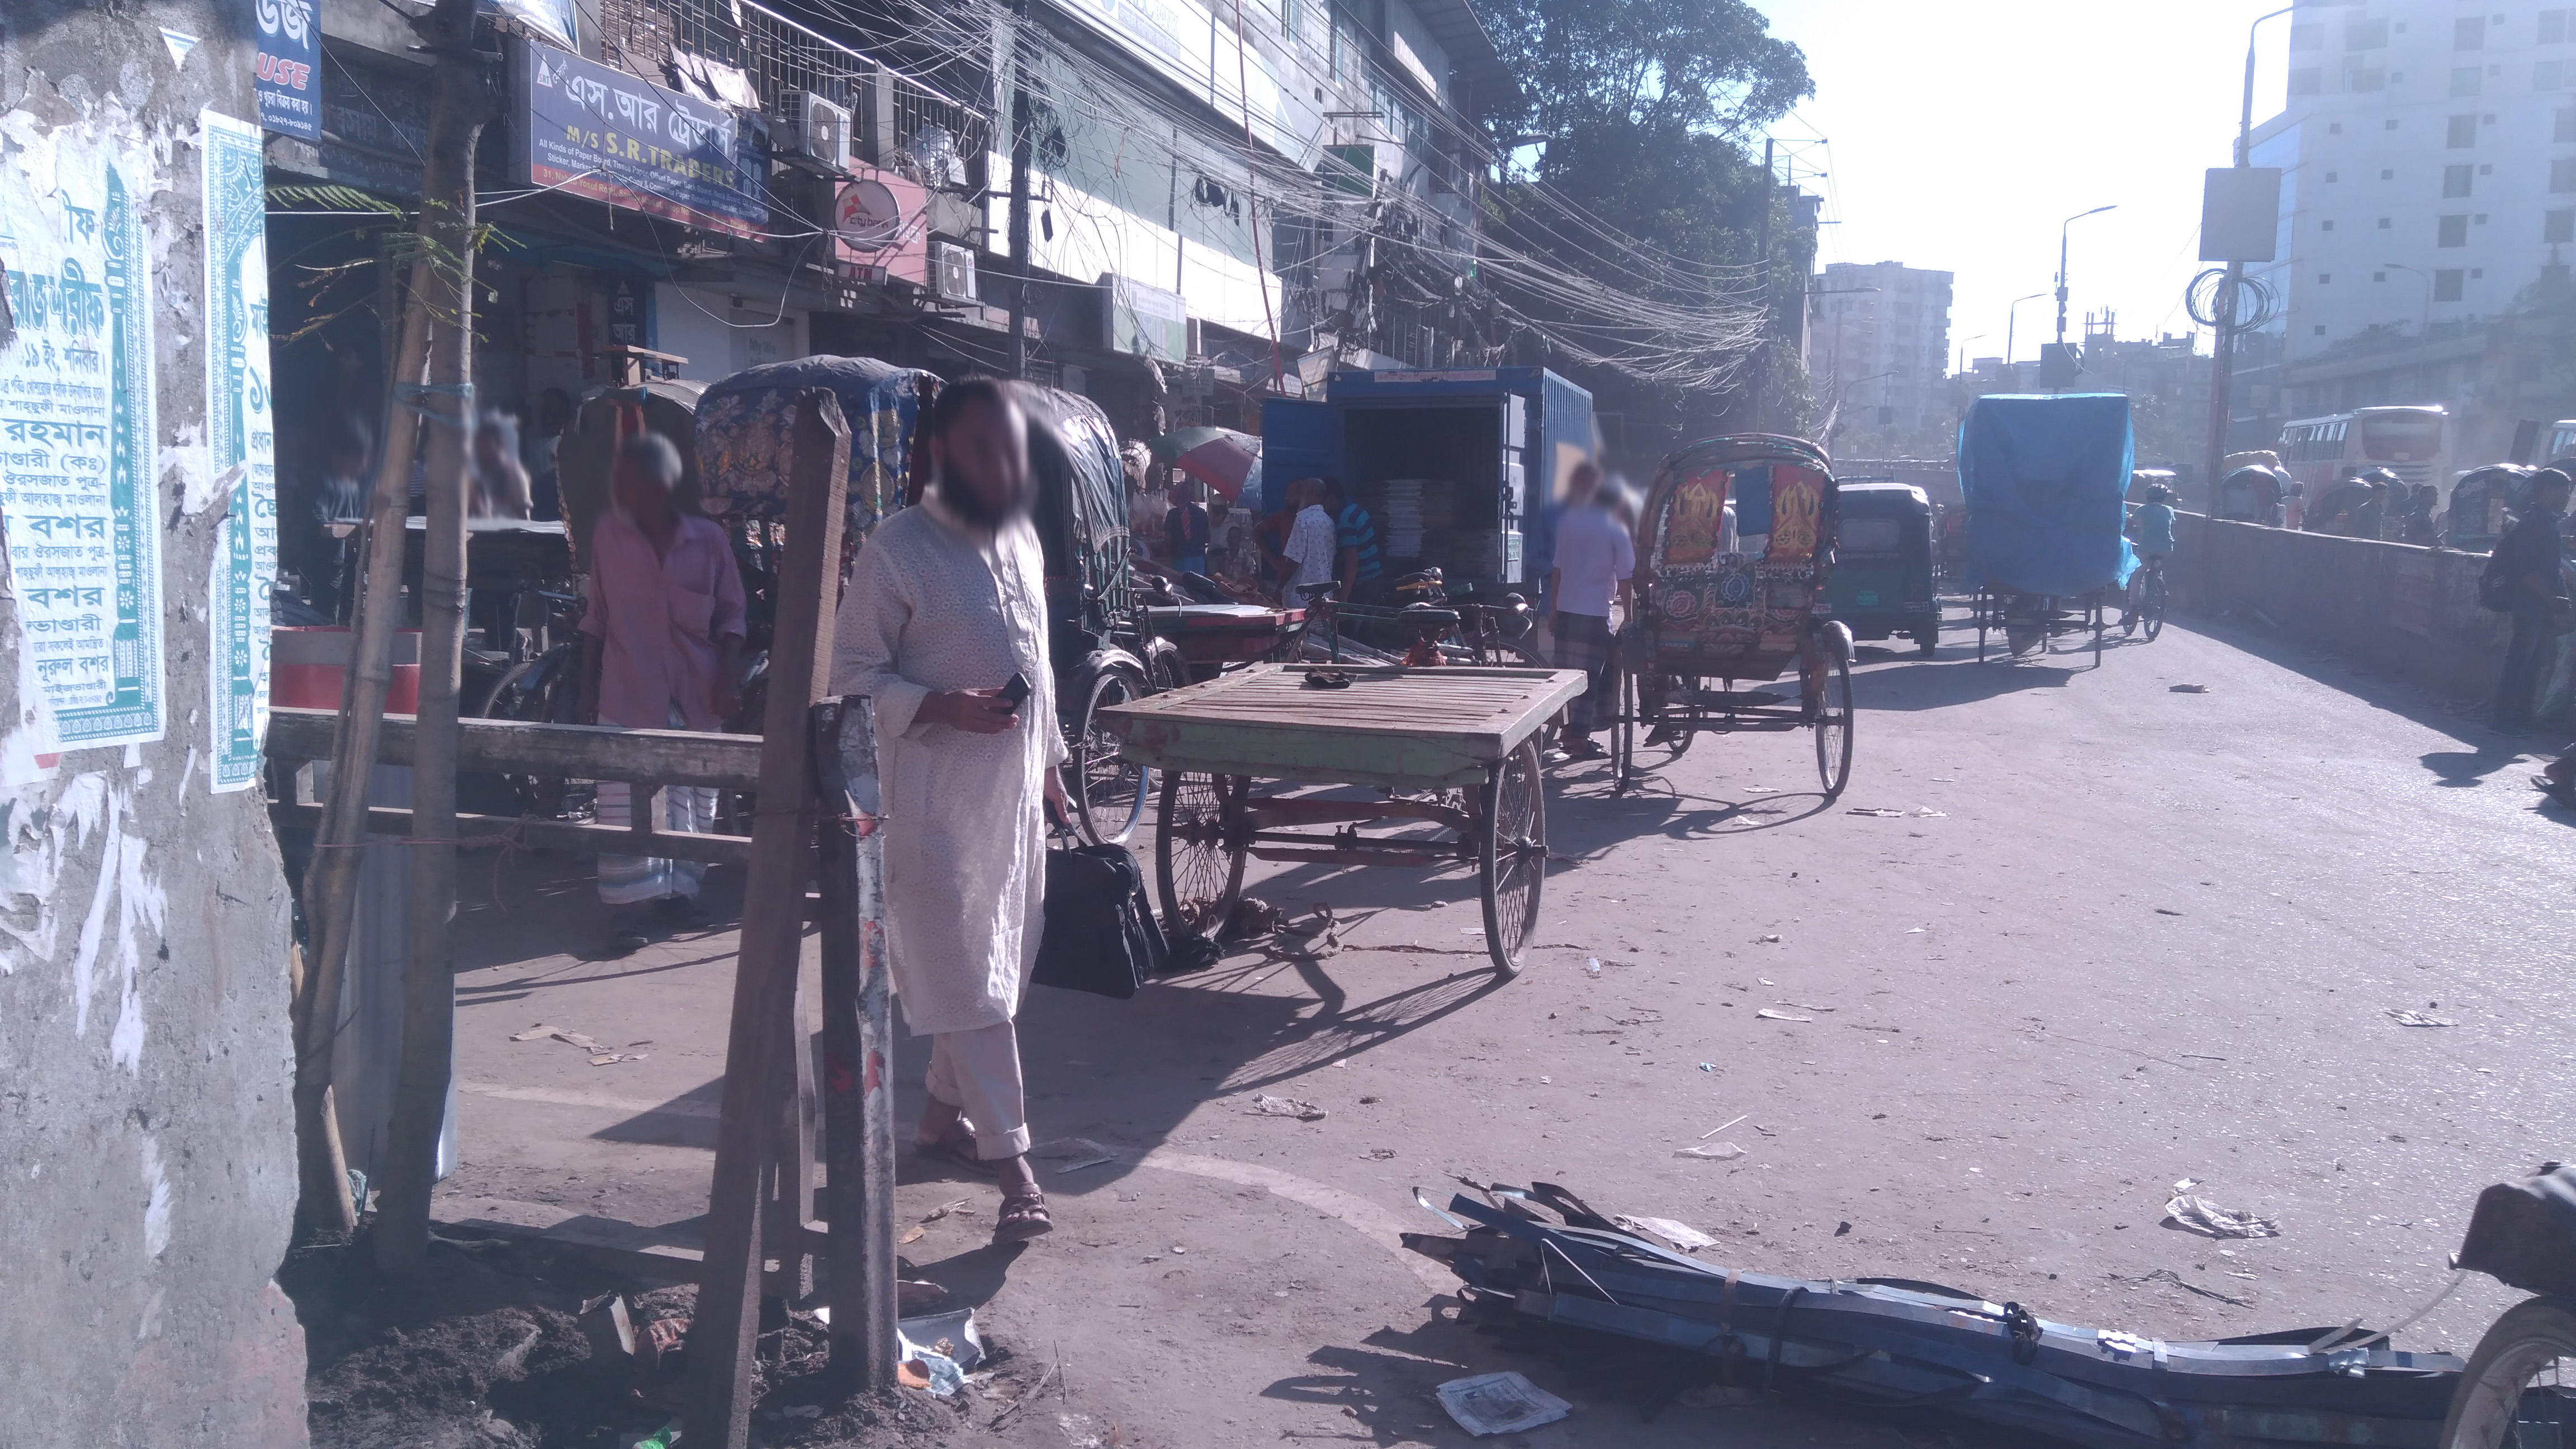cng: (1817, 451, 1957, 727)
rickshaw: (1585, 395, 1879, 839), (688, 349, 947, 623), (1042, 373, 1166, 817), (536, 372, 738, 559)
truck: (1230, 303, 1642, 630)
van: (1077, 630, 1614, 1001), (1953, 561, 2123, 669)
